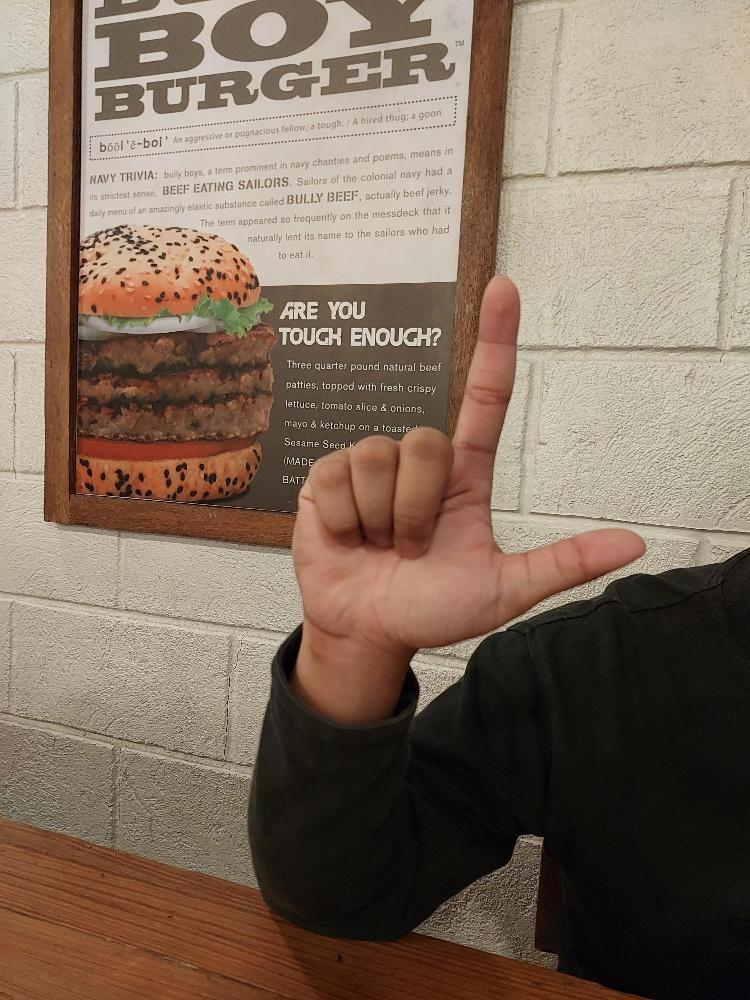l: (289, 271, 648, 654)
